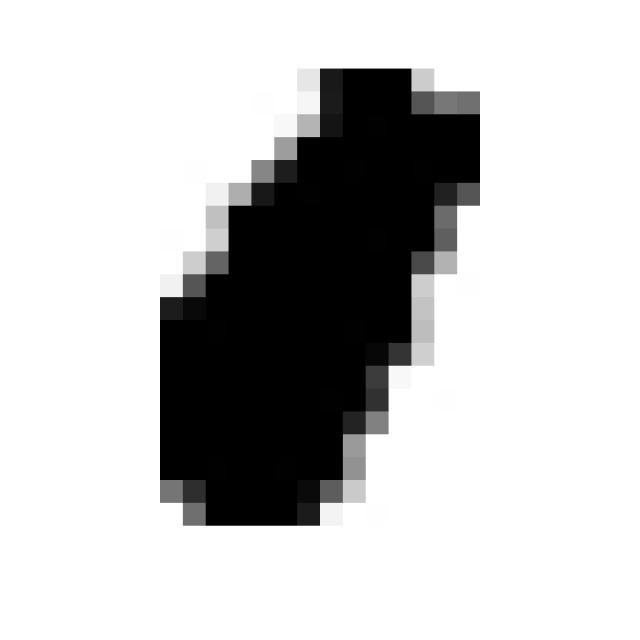0 -zero-: (151, 52, 492, 538)
